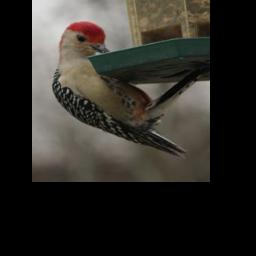Woodpecker: (53, 20, 191, 163)
